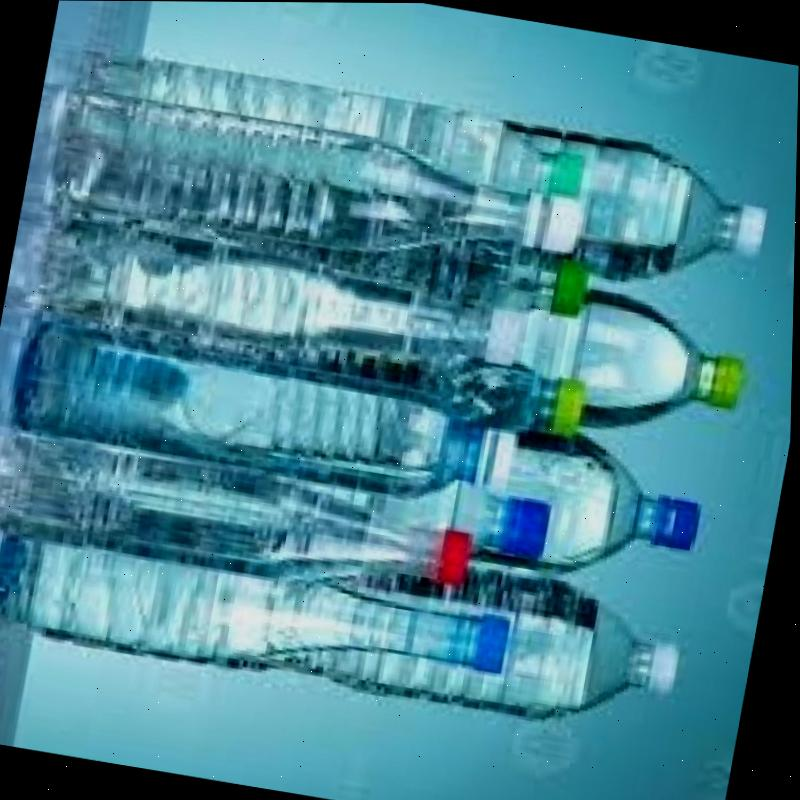botella: (42, 83, 590, 286), (7, 308, 529, 516), (0, 499, 520, 706), (0, 415, 486, 609), (28, 210, 530, 390), (27, 289, 589, 442), (76, 44, 597, 205), (50, 169, 593, 321), (254, 547, 687, 735), (488, 117, 775, 305), (437, 411, 715, 592), (479, 273, 756, 448), (319, 456, 554, 566)
